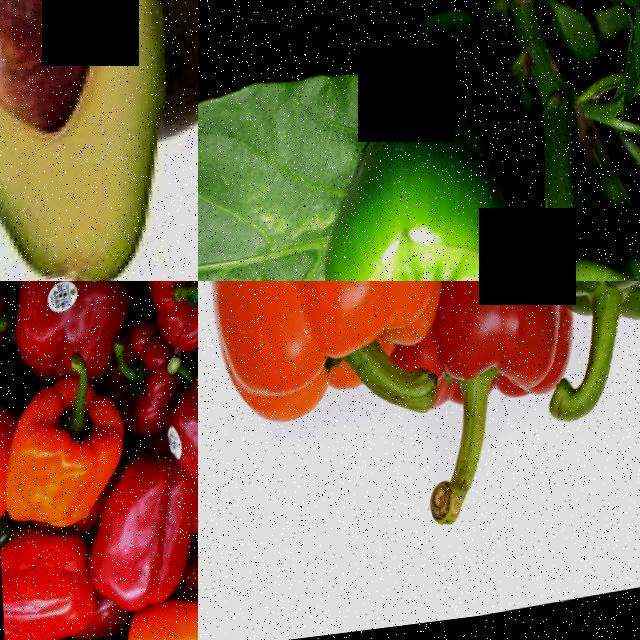avocado: (0, 0, 195, 281), (150, 0, 198, 164)
bell pepper: (198, 281, 452, 445), (303, 78, 496, 281), (382, 321, 585, 512), (97, 456, 193, 625), (0, 377, 108, 521), (18, 281, 110, 384), (0, 520, 72, 640), (157, 358, 198, 504), (118, 339, 163, 431), (162, 281, 198, 354)
